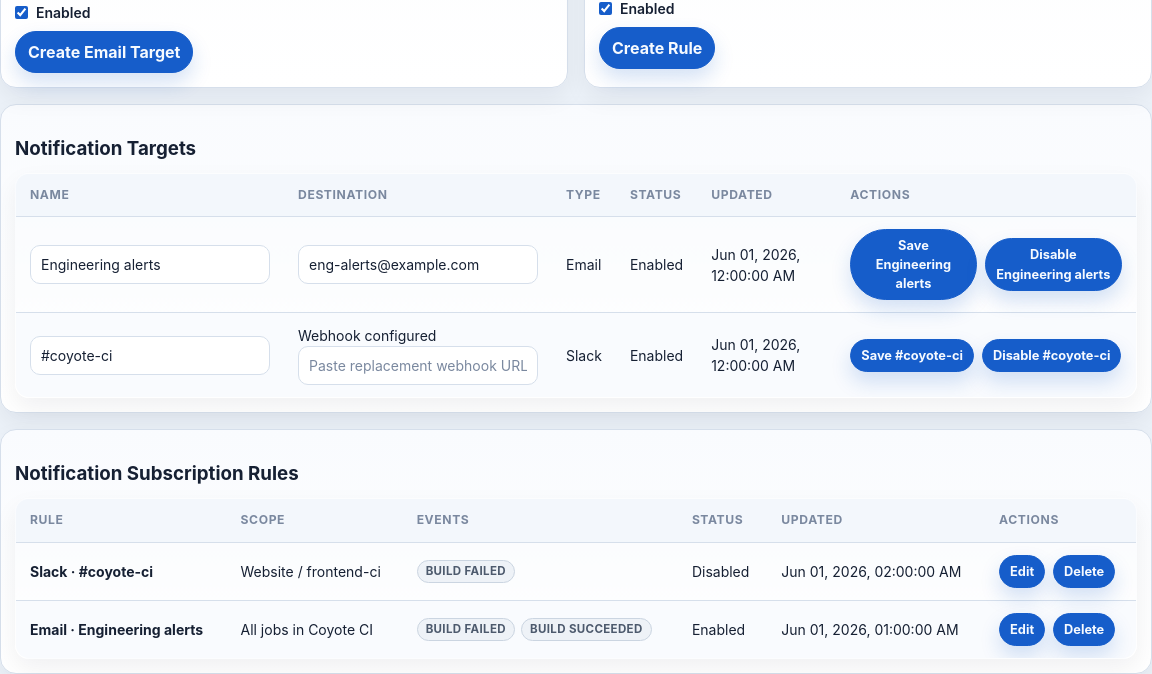
Test case: NotificationsPage › does not delete obsolete rows when kept-row update fails
(page scrolled)
Expected: the text "Email · Engineering alerts" is shown, [30,621,203,638]
Step 1. Click the button "Edit" in the row of "Email · Engineering alerts" → (1022, 630), box [999,613,1045,646]
(page scrolled)
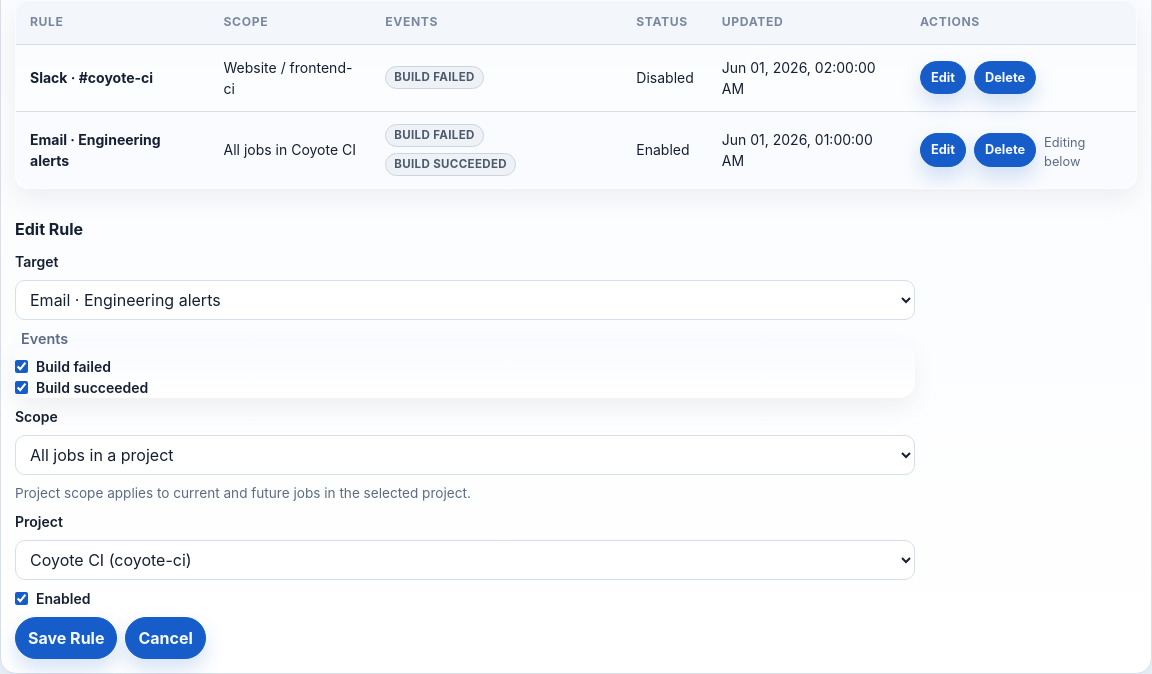
Step 2. Click the checkbox labelled "Build succeeded" → (22, 387), box [15,381,28,394]
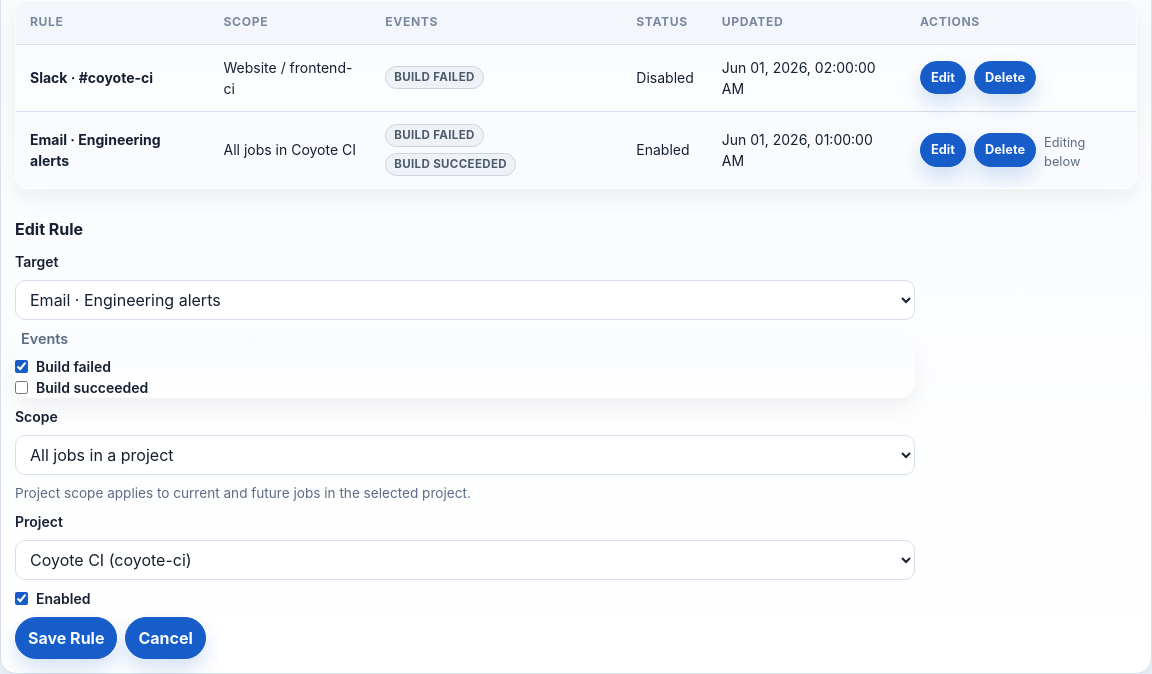
Step 3. Click the checkbox labelled "Enabled" → (22, 599), box [15,592,28,605]
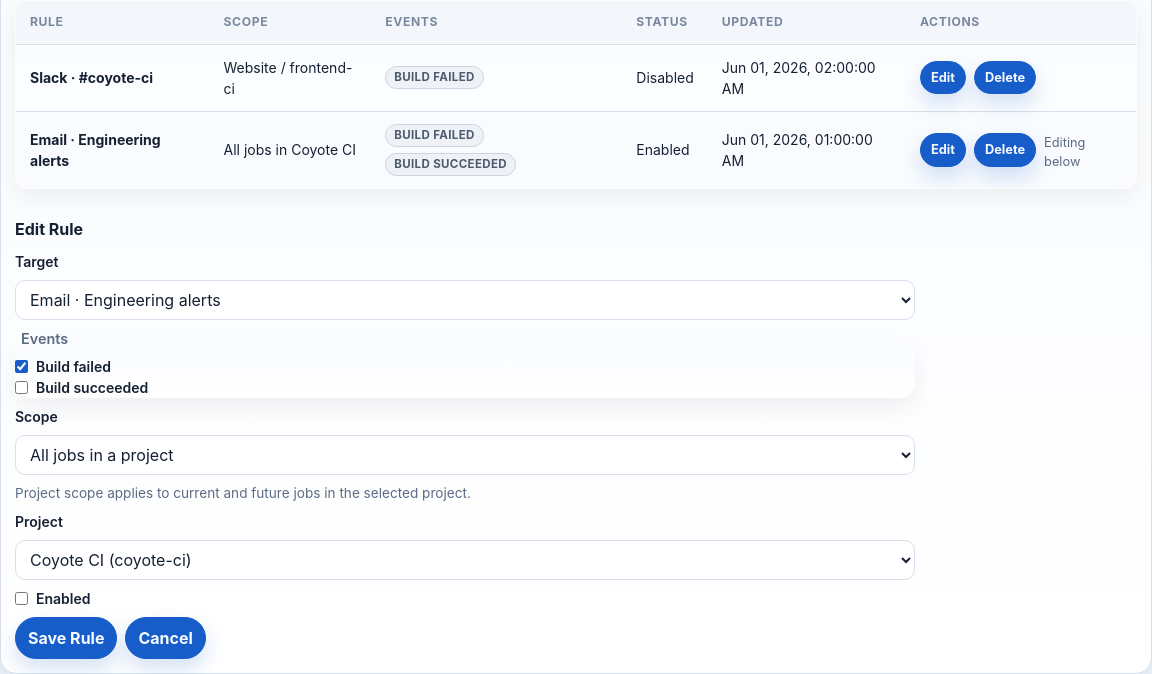
Step 4. Click the button "Save Rule" → (66, 638), box [15,617,118,659]
(page scrolled)
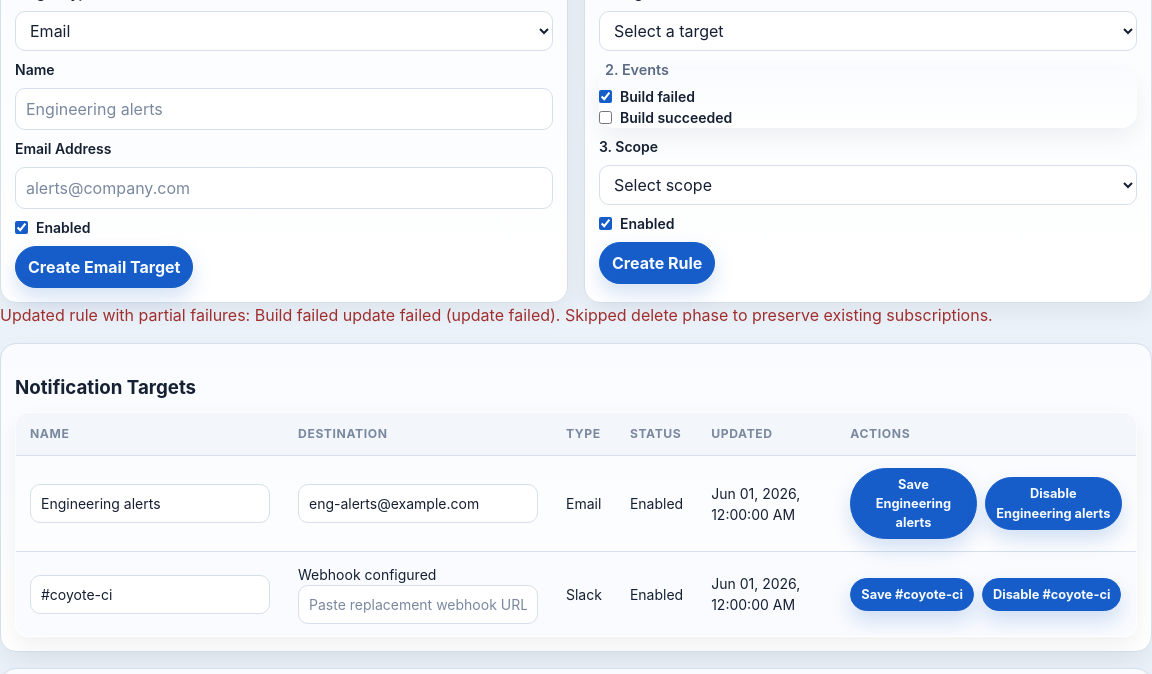
Expected: the text "Skipped delete phase to preserve existing subscriptions" is shown, [0,304,993,324]
